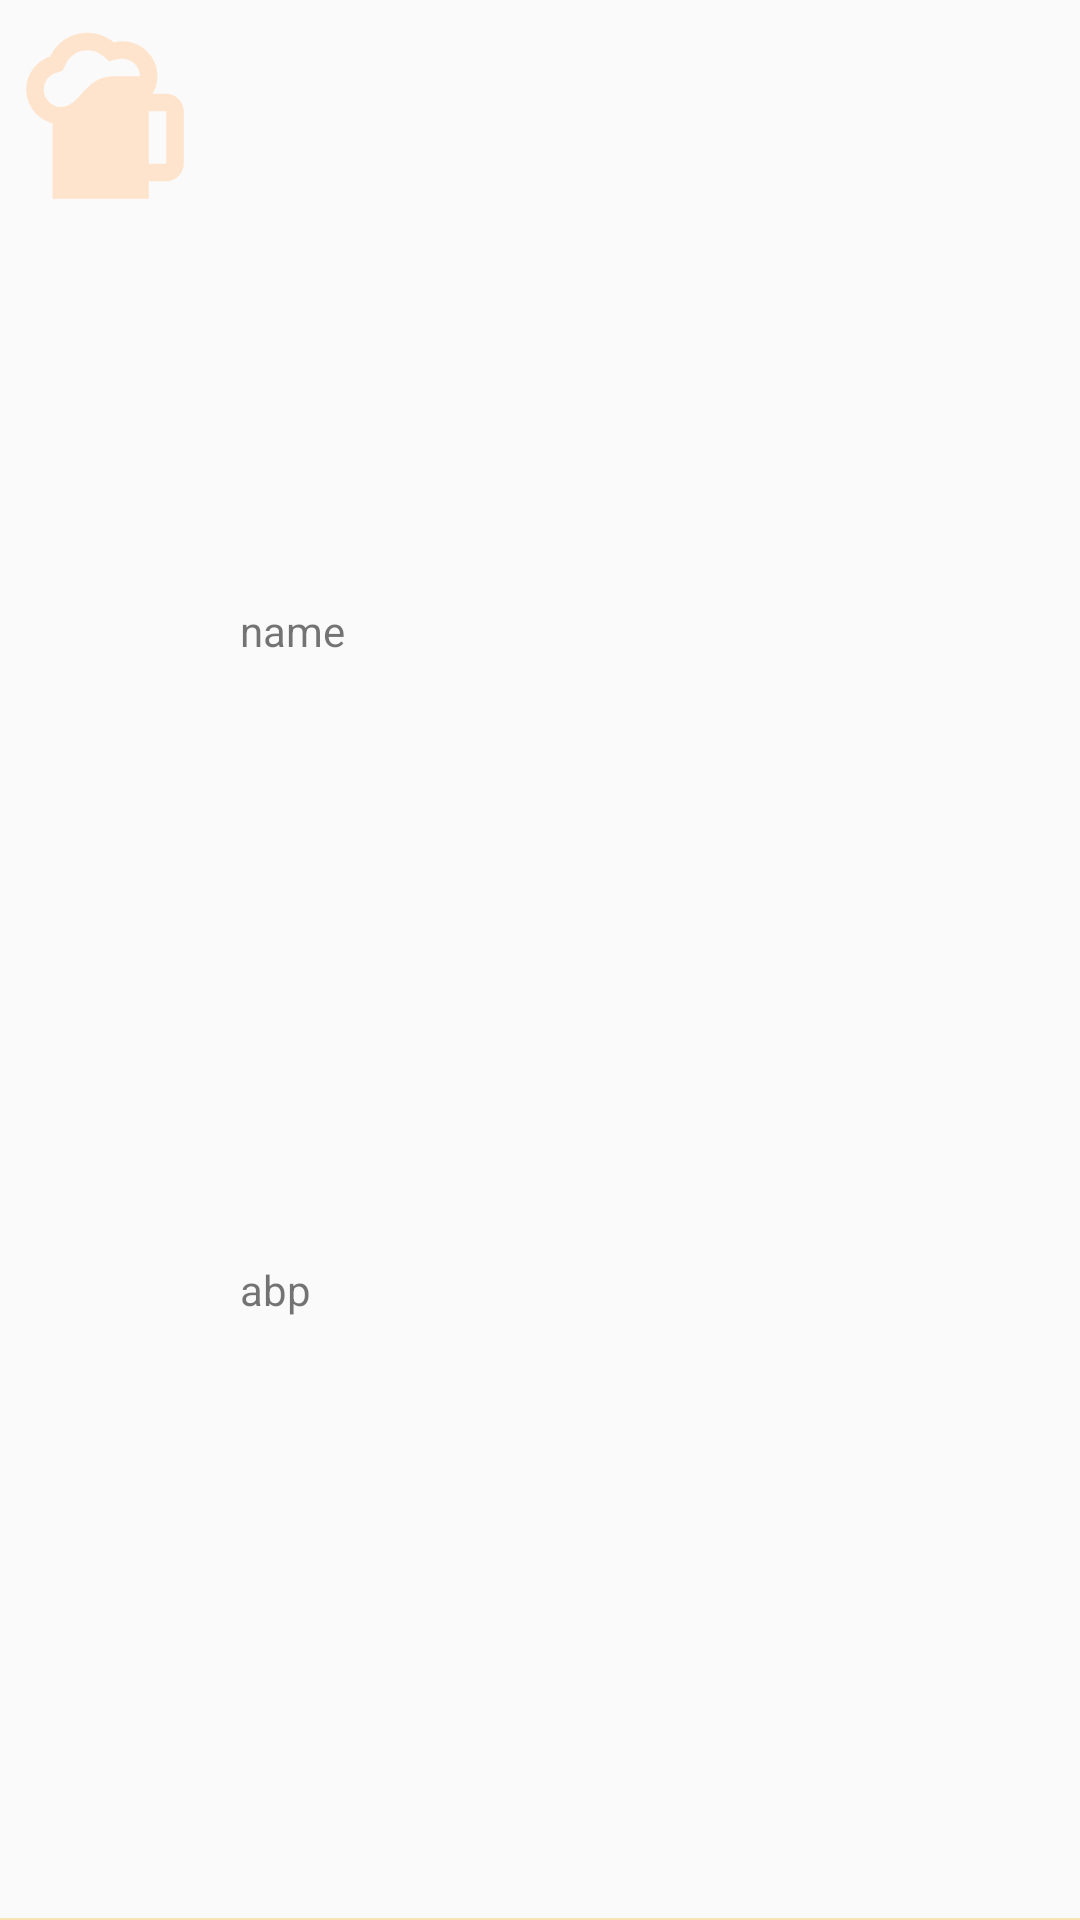

Named icons in this screenshot (1080 x 1920) and their centers, [x,y]:
beer: [105,116]
